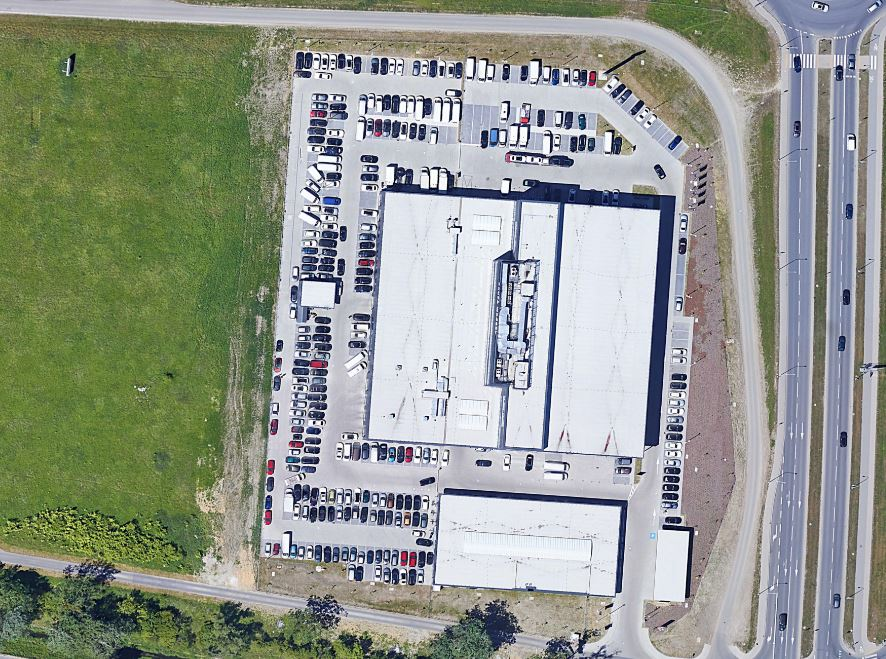shopping_center: (361, 182, 662, 465), (430, 487, 622, 602)
